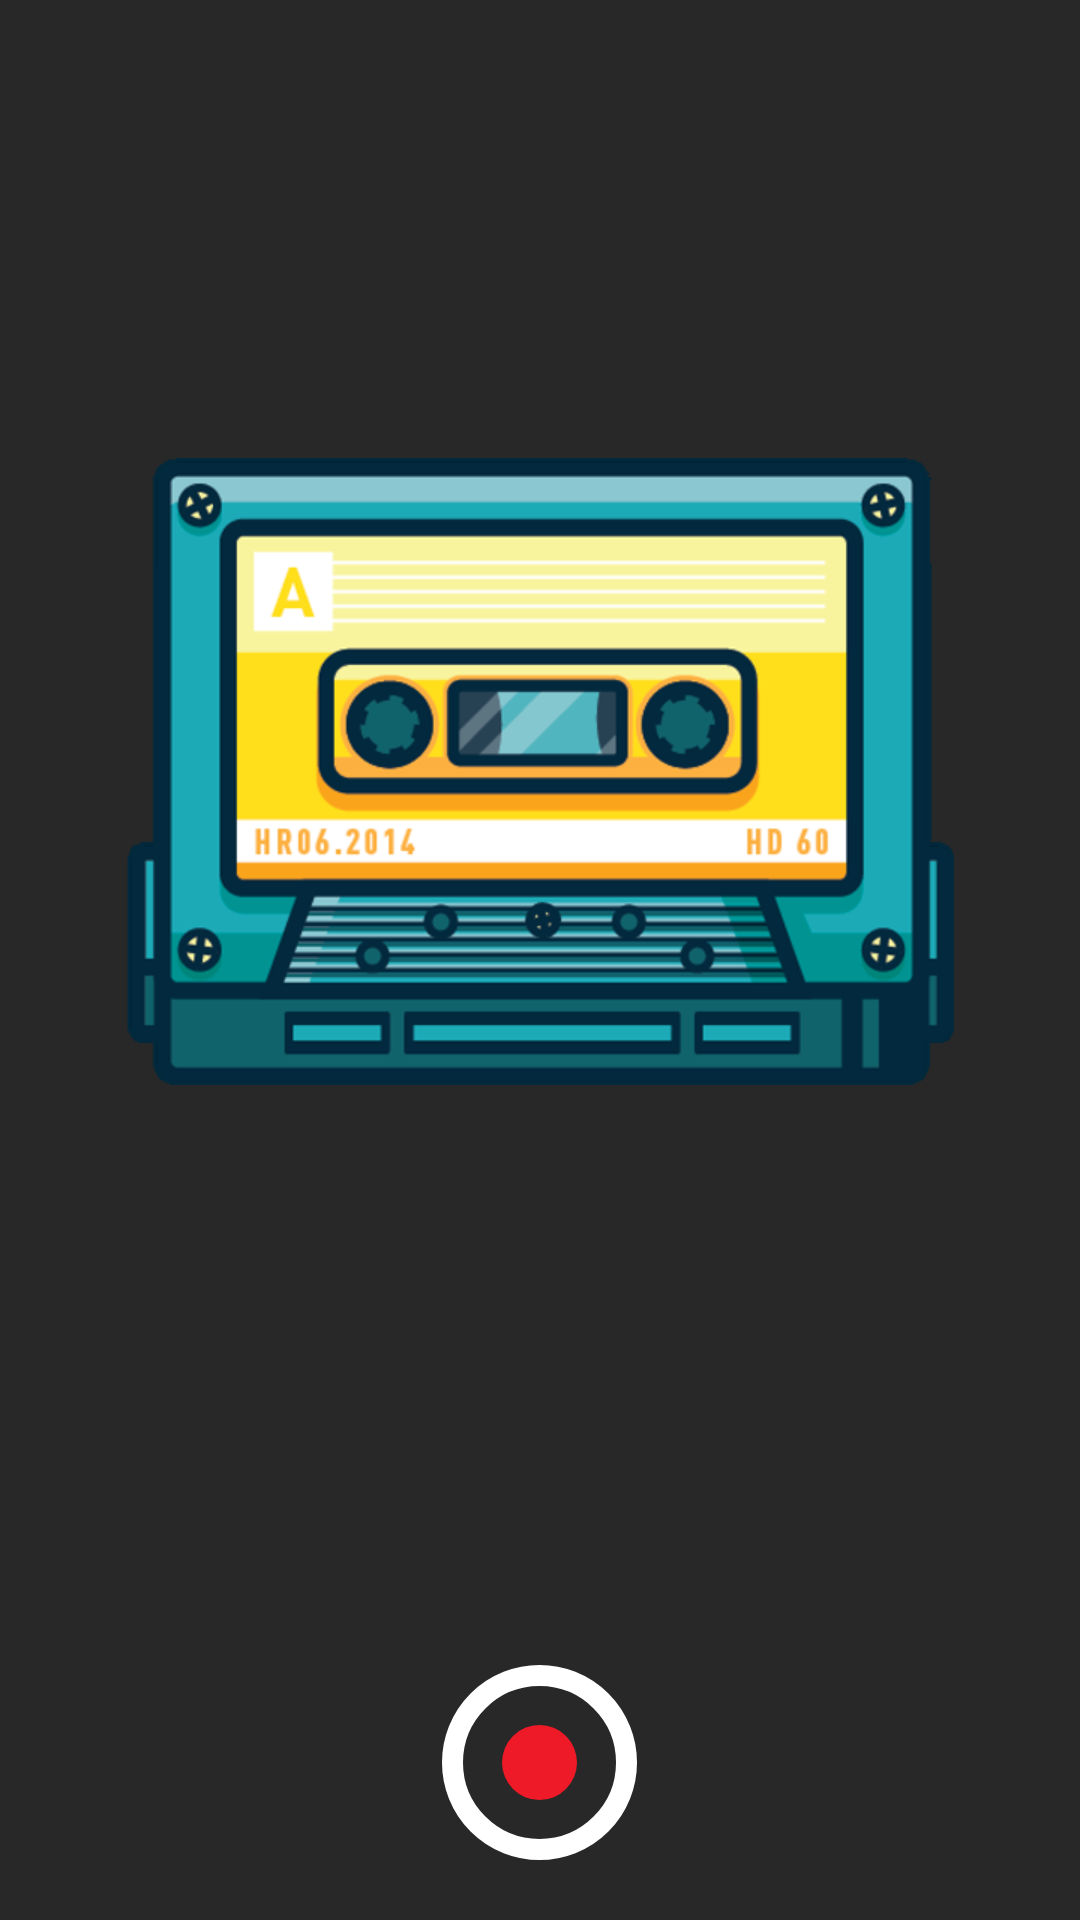

Screen size 1080px×1920px. Icon name, then its box in pixels as (x1, y1, x2, y2):
ra stopped: (442, 1665, 637, 1860)
